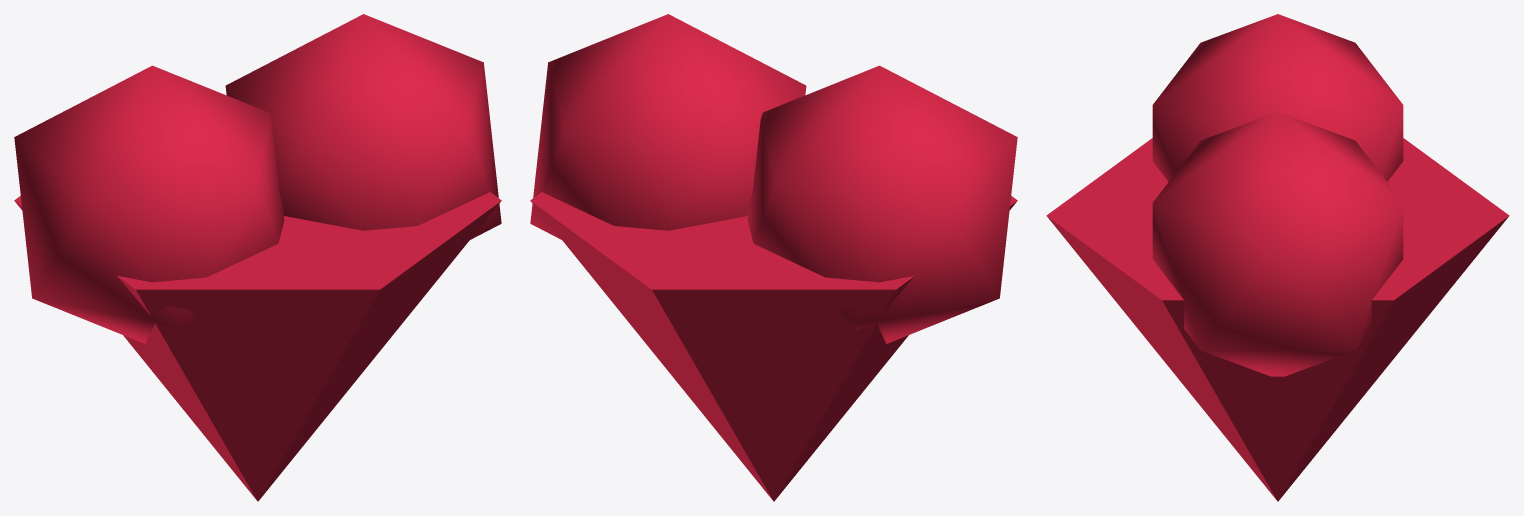
File: heart.glb
3 renders of one model, left to right at view 1: azimuth 30°, elevation 25°; view 2: azimuth 150°, elevation 25°; view 3: azimuth 270°, elevation 25°, orthographic. The views are drawn at different scales.
Parts seen in each view (by area): view 1: heart_v0; view 2: heart_v0; view 3: heart_v0.
Boxes of the visible parts, x1=… form: heart_v0: x1=14, y1=14, x2=501, y2=501; heart_v0: x1=530, y1=14, x2=1017, y2=501; heart_v0: x1=1046, y1=14, x2=1509, y2=501.
Bounding box in the file's own units: 0.2352 × 0.23 × 0.22.
